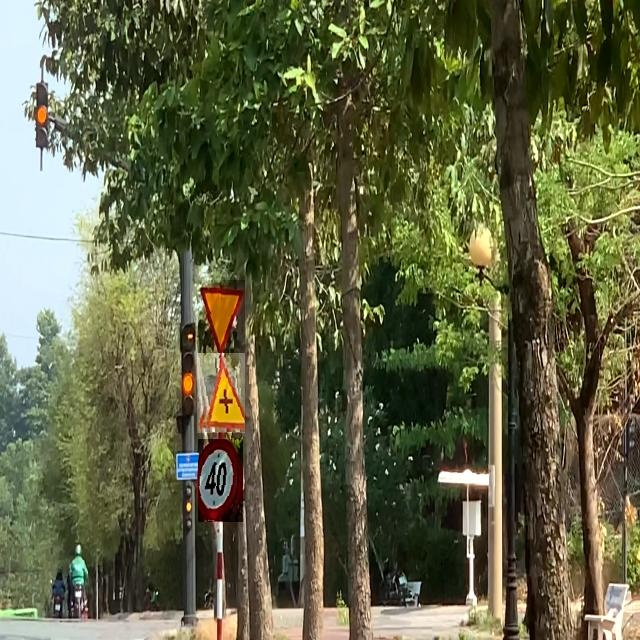bien_nguy_hiem: (197, 354, 245, 434), (198, 439, 243, 522), (198, 280, 245, 358)
